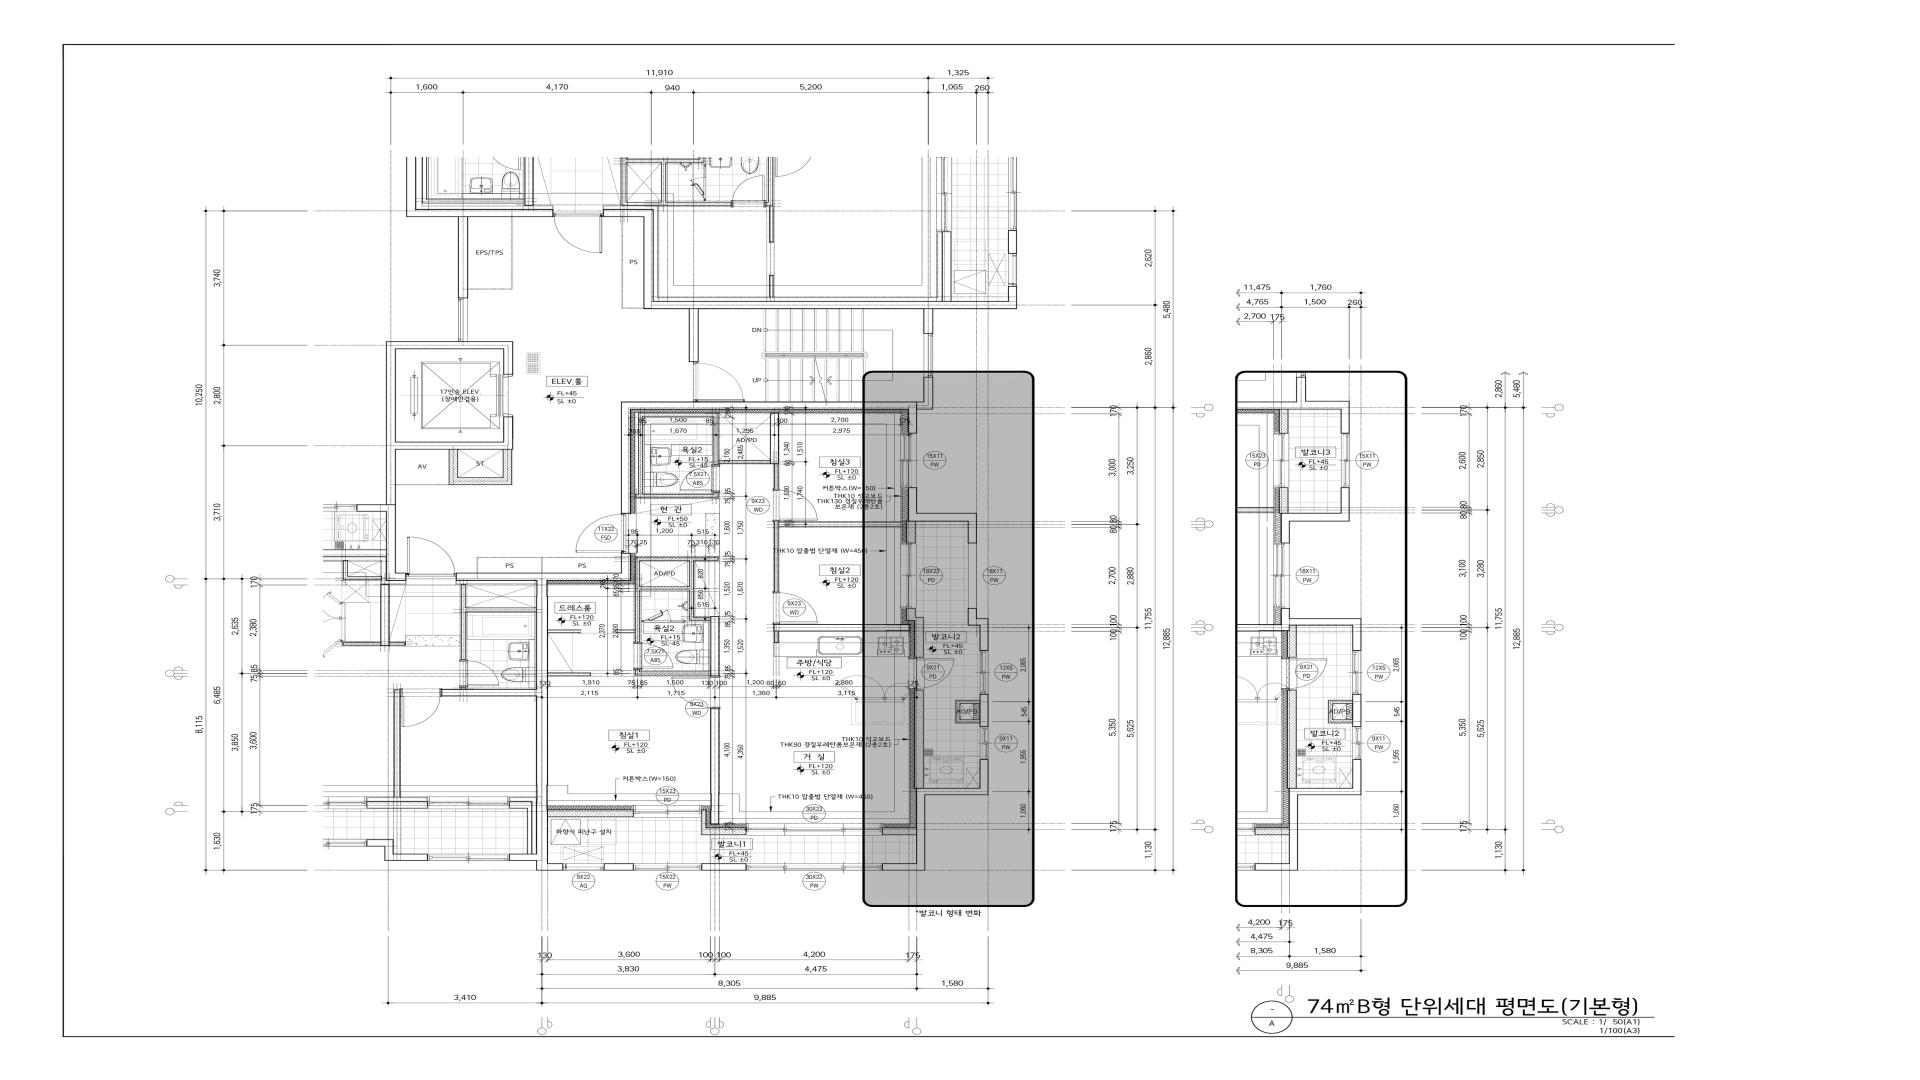door: (694, 363, 745, 402), (575, 514, 624, 553), (670, 676, 715, 708), (775, 489, 819, 521), (775, 592, 818, 622), (916, 658, 955, 690), (679, 465, 716, 492), (637, 644, 674, 669), (641, 608, 671, 622)
wall: (456, 553, 630, 870), (603, 208, 1017, 334), (621, 401, 918, 514), (386, 342, 513, 582), (882, 760, 989, 870), (907, 488, 977, 543), (709, 708, 720, 824), (406, 210, 553, 218), (702, 810, 746, 835), (773, 624, 910, 632), (914, 690, 924, 789), (906, 608, 924, 658), (968, 608, 989, 650), (458, 218, 468, 298), (778, 521, 902, 527), (549, 810, 633, 818), (688, 309, 699, 363), (634, 556, 641, 642), (916, 377, 934, 410), (711, 616, 720, 676), (636, 492, 719, 498), (448, 477, 513, 485), (770, 413, 779, 464), (773, 521, 779, 592), (636, 670, 711, 675), (638, 413, 642, 495), (640, 556, 719, 560), (980, 694, 989, 727), (642, 413, 719, 417), (702, 864, 746, 870), (713, 417, 719, 465), (448, 450, 458, 477), (502, 450, 512, 477), (690, 560, 694, 621), (621, 218, 624, 309), (882, 828, 916, 835), (906, 521, 915, 543), (719, 460, 770, 464), (640, 587, 690, 591), (604, 864, 633, 870), (510, 218, 513, 290), (476, 556, 621, 558), (547, 673, 591, 676), (774, 464, 779, 489), (547, 629, 580, 633), (956, 700, 980, 704), (615, 629, 634, 633), (956, 703, 960, 723), (396, 484, 448, 485), (694, 617, 711, 621), (774, 632, 779, 644), (467, 289, 512, 290), (960, 720, 980, 723), (671, 620, 687, 622), (476, 558, 479, 572), (541, 558, 543, 572), (622, 307, 644, 309)
window: (746, 823, 882, 836), (901, 543, 916, 608), (899, 434, 916, 488), (746, 864, 882, 870), (633, 806, 702, 818), (968, 543, 977, 608), (923, 334, 934, 377), (458, 298, 468, 342), (633, 864, 702, 870), (980, 650, 989, 694), (563, 864, 604, 870), (980, 727, 988, 760)
